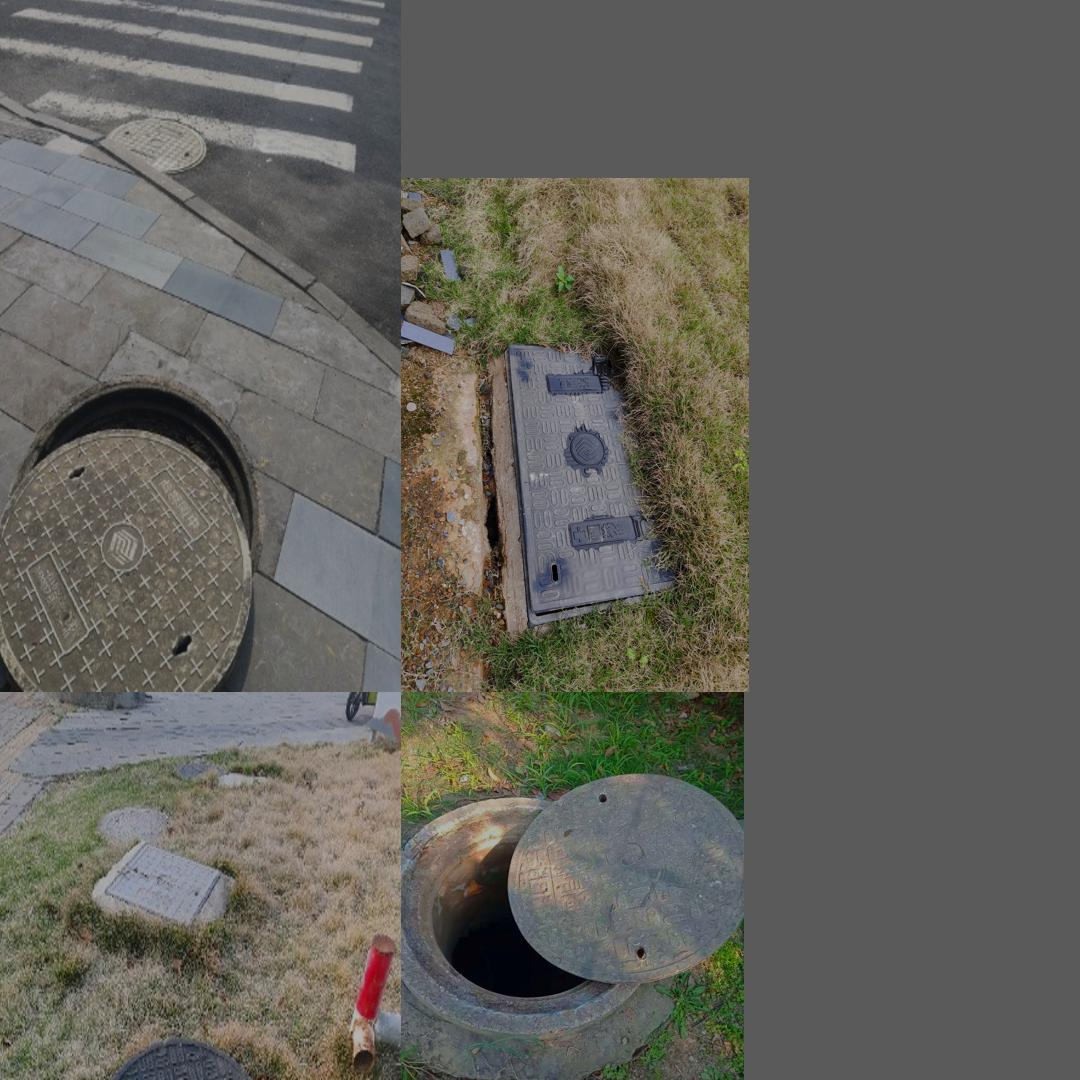good: (105, 838, 223, 936), (98, 120, 206, 169)
uncovered: (401, 771, 740, 1037), (0, 378, 260, 688), (504, 344, 681, 624), (80, 1036, 333, 1080)
